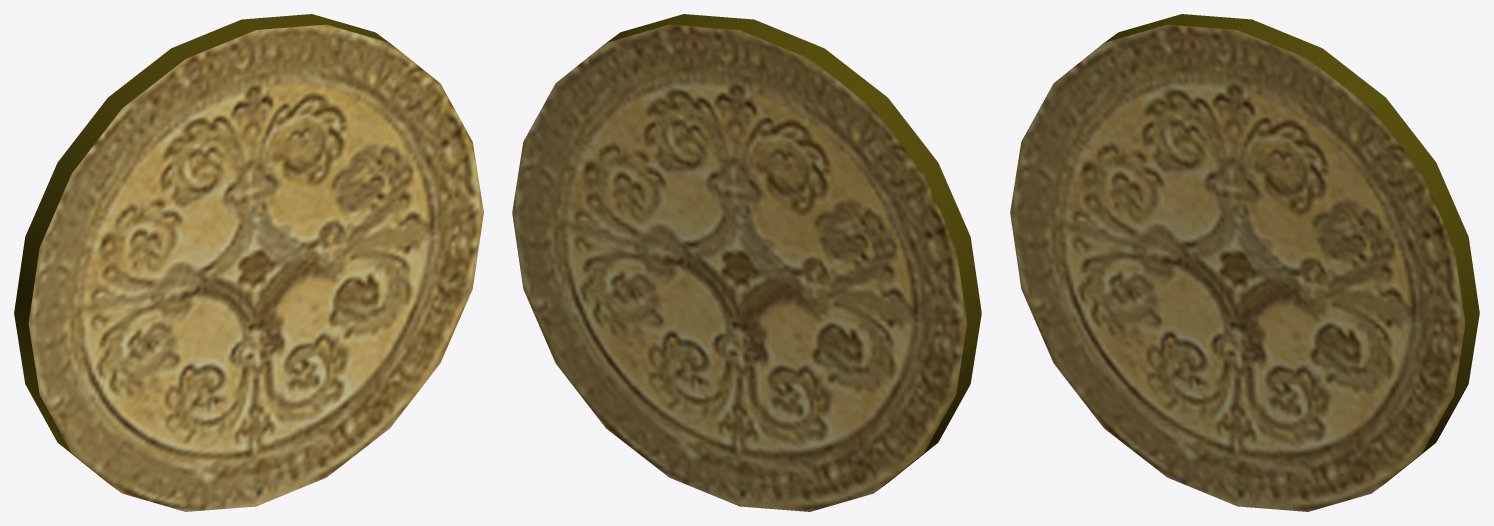
Rendered from topcorner_coin.fbx.
The picture shows the model from 3 angles, left to right: view 1: azimuth 30°, elevation 25°; view 2: azimuth 150°, elevation 25°; view 3: azimuth 330°, elevation 25°; orthographic projection.
Parts seen in each view (by area): view 1: coin; view 2: coin; view 3: coin.
Part boxes in pixels (box(x1,y1,x2,y2)): coin: box(14, 14, 483, 511); coin: box(512, 14, 981, 511); coin: box(1010, 14, 1479, 511).
Size of the model in its own units: 0.7069 by 0.7066 by 0.0389.
Materials: 2 (1 with a texture image).
